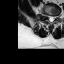CCS_normal: (50, 12, 52, 24)
LFS_stenosis: (55, 12, 57, 19)
LLS_normal: (52, 13, 55, 22)
RFS_normal: (45, 11, 47, 18)
RLS_normal: (47, 12, 50, 23)
